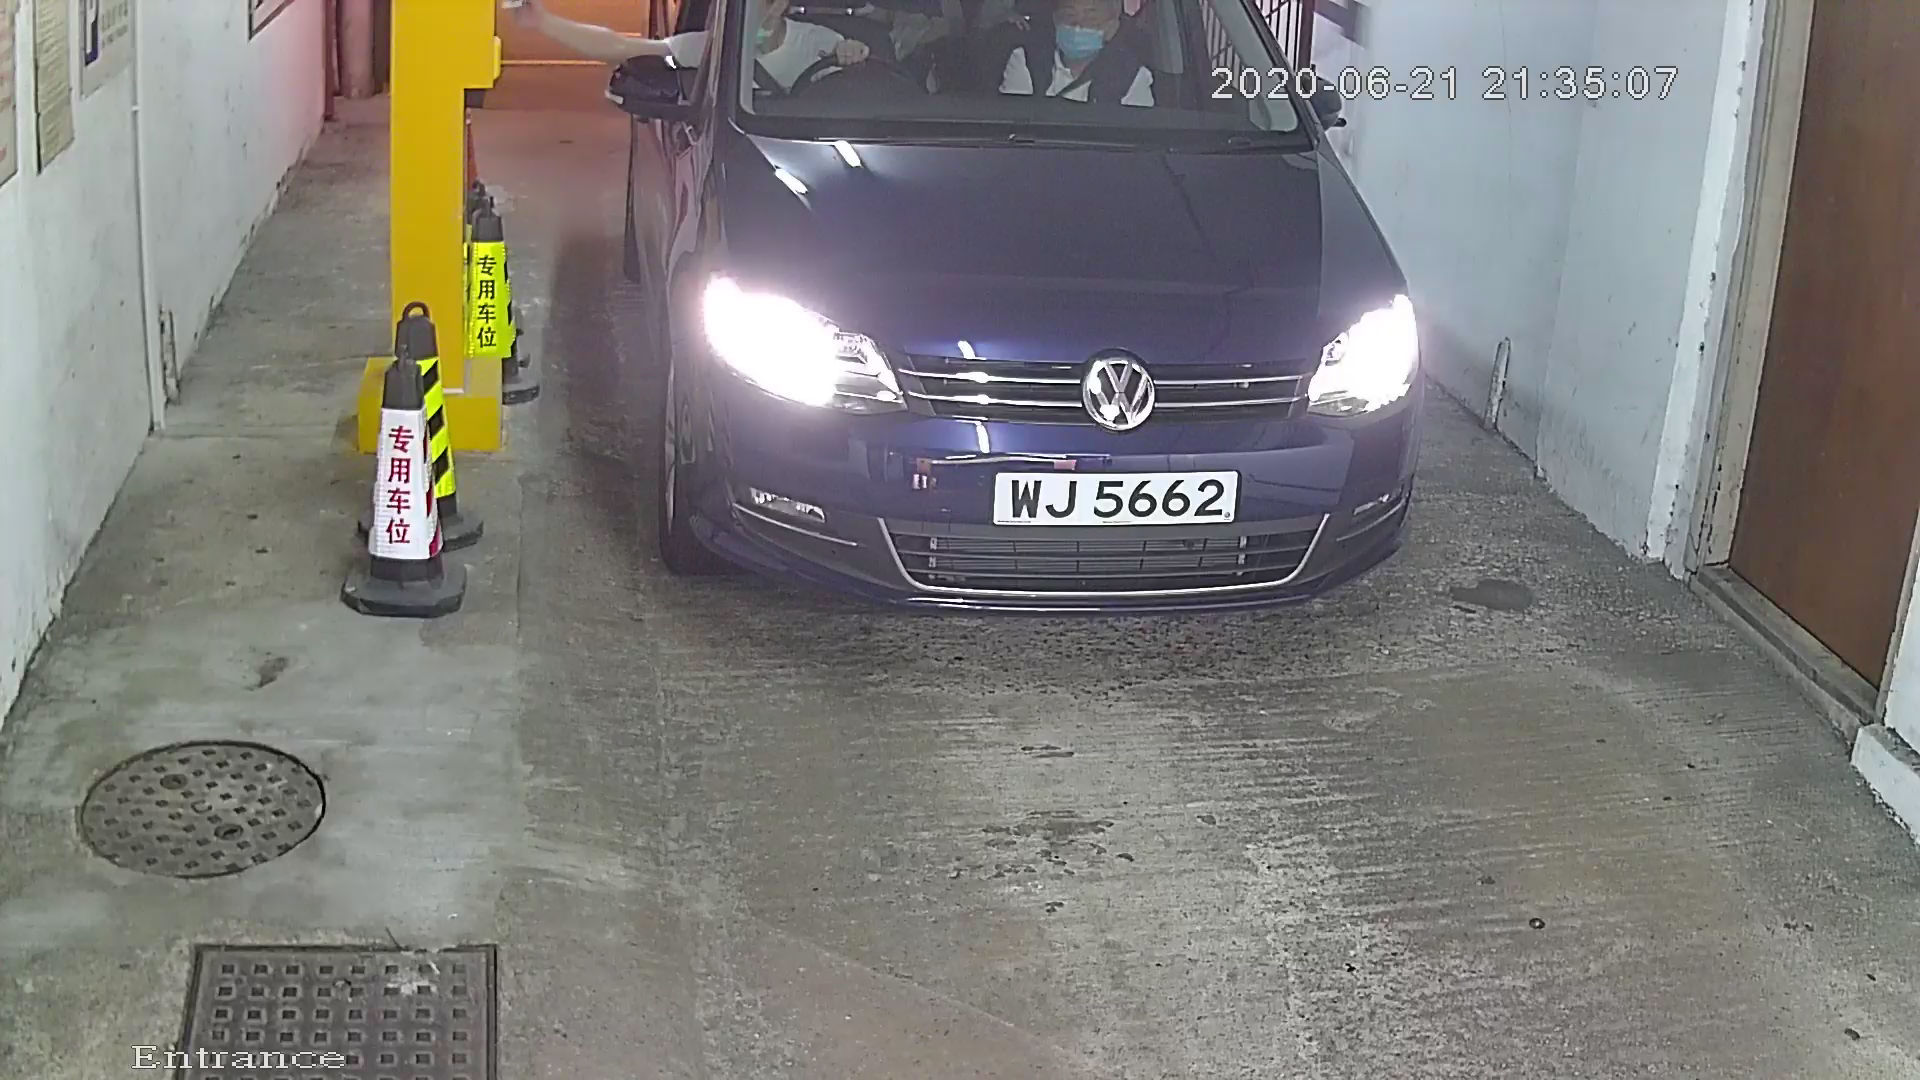privatecar: (529, 3, 1424, 651)
